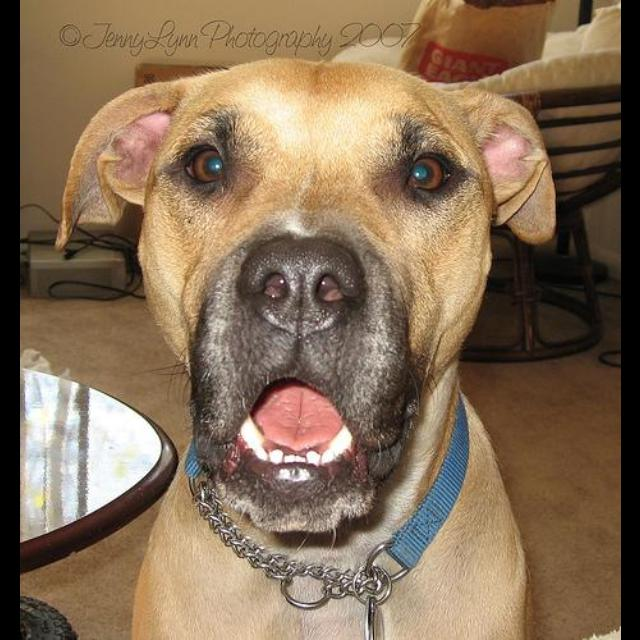bullmastiff: (53, 57, 557, 640)
